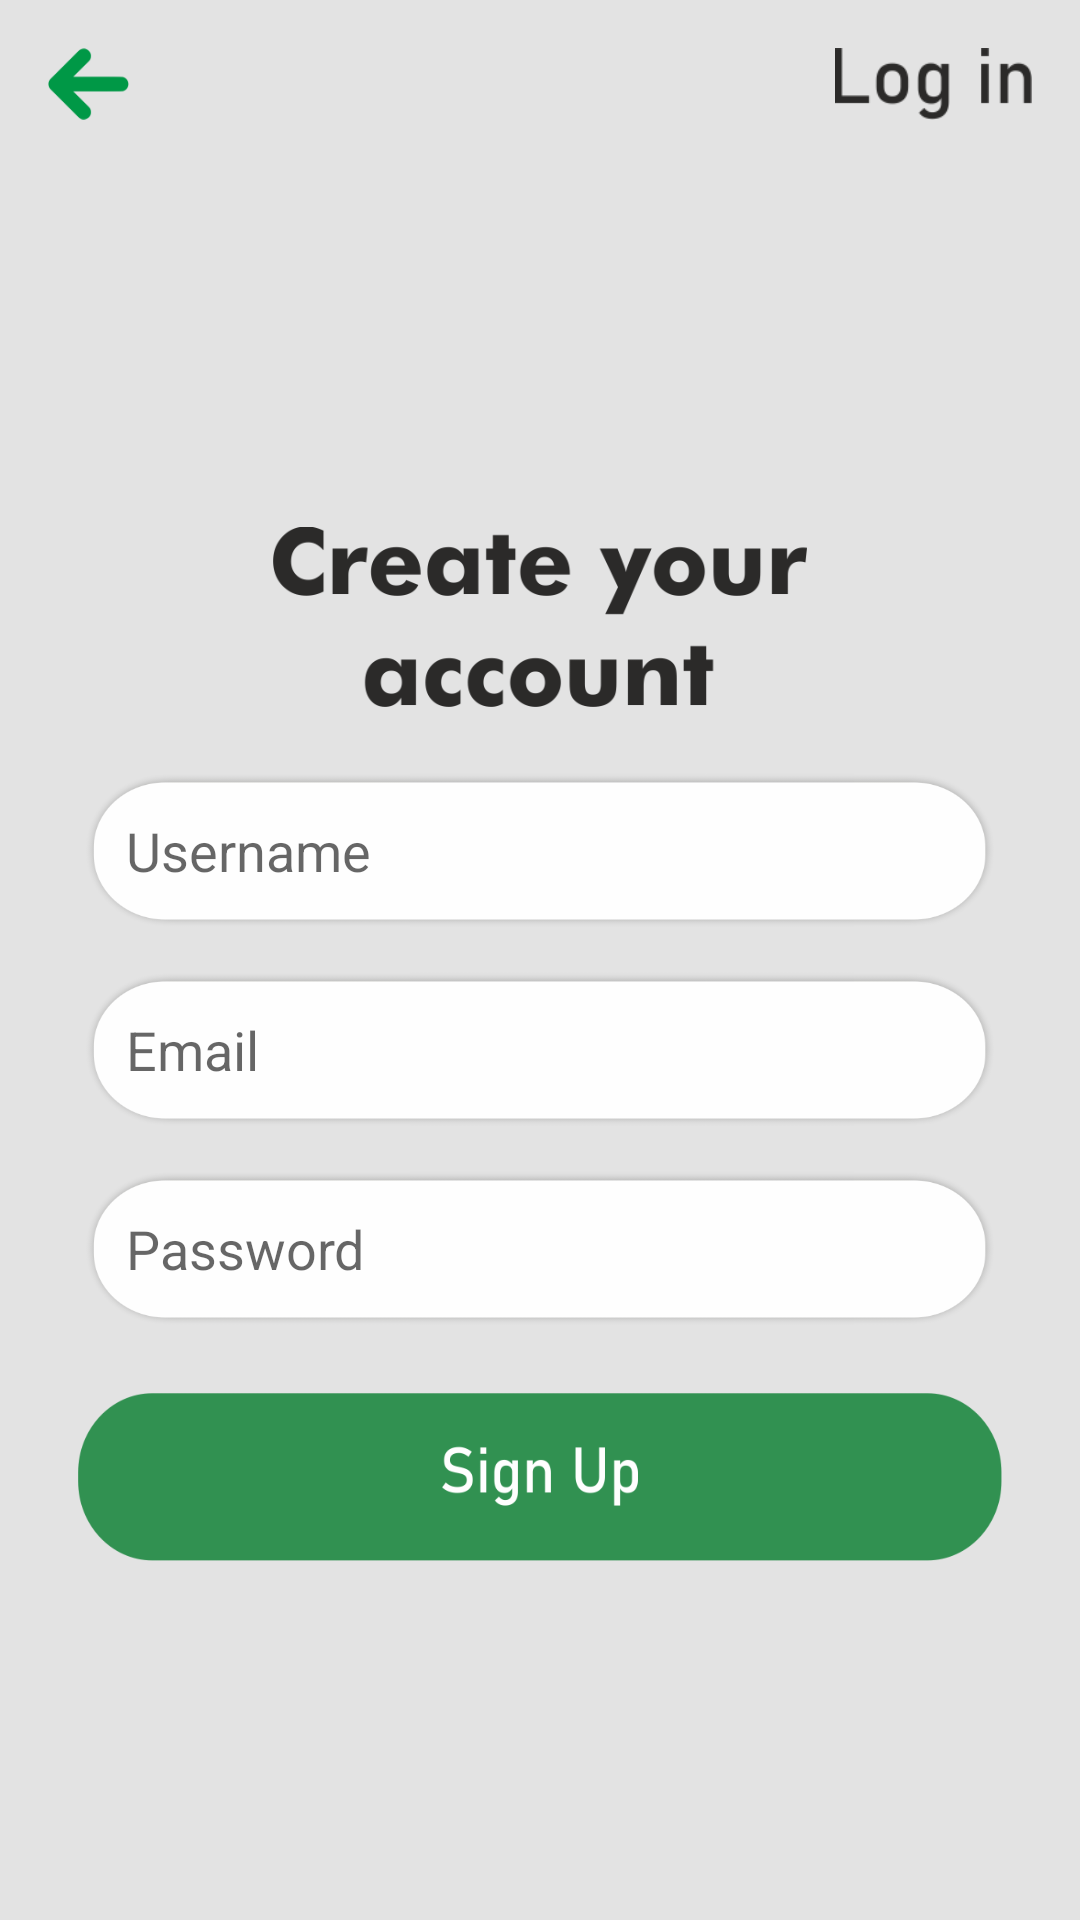

Where icons sit on this 1080px×1920px app screen, as [x1, y1, x2, y2]:
back: [48, 48, 129, 120]
